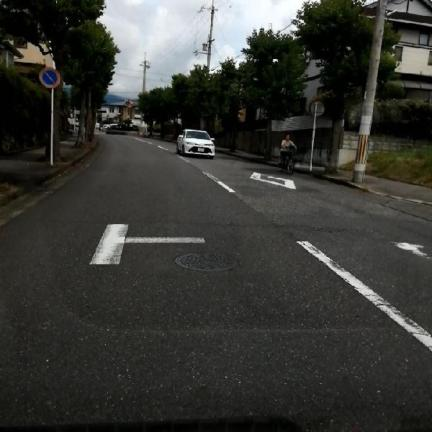Road: (0, 135, 431, 430)
